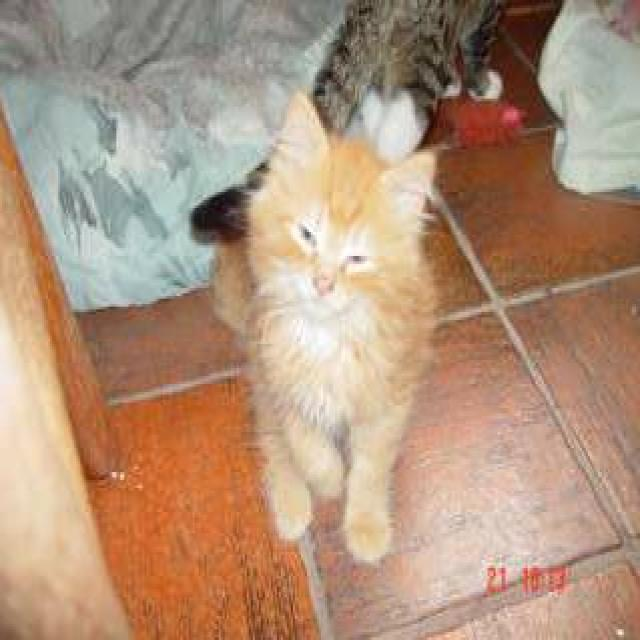cat: (188, 82, 450, 562), (311, 0, 505, 133)
